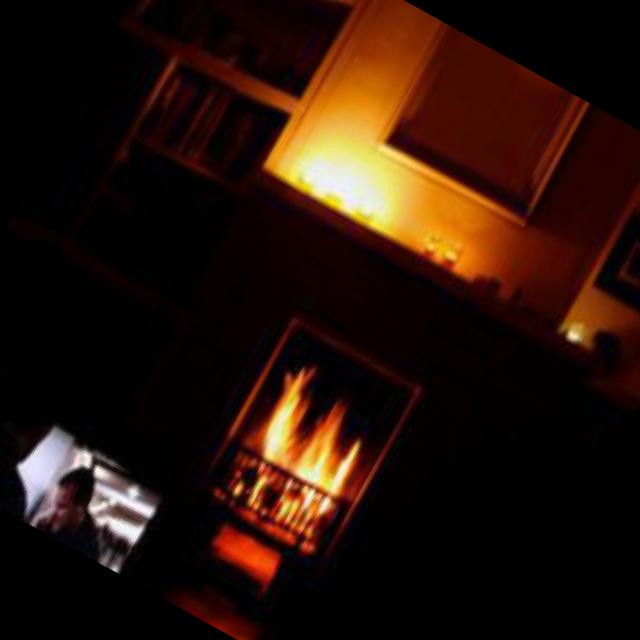fire: (209, 341, 399, 546)
